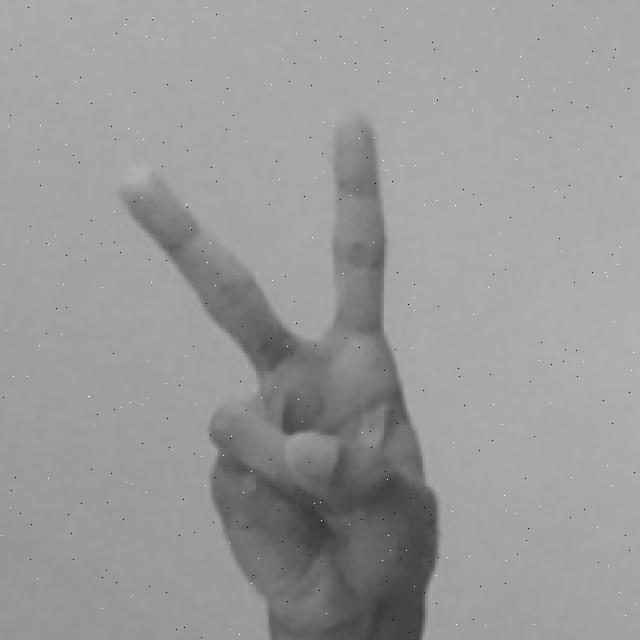V: (112, 107, 449, 640)
